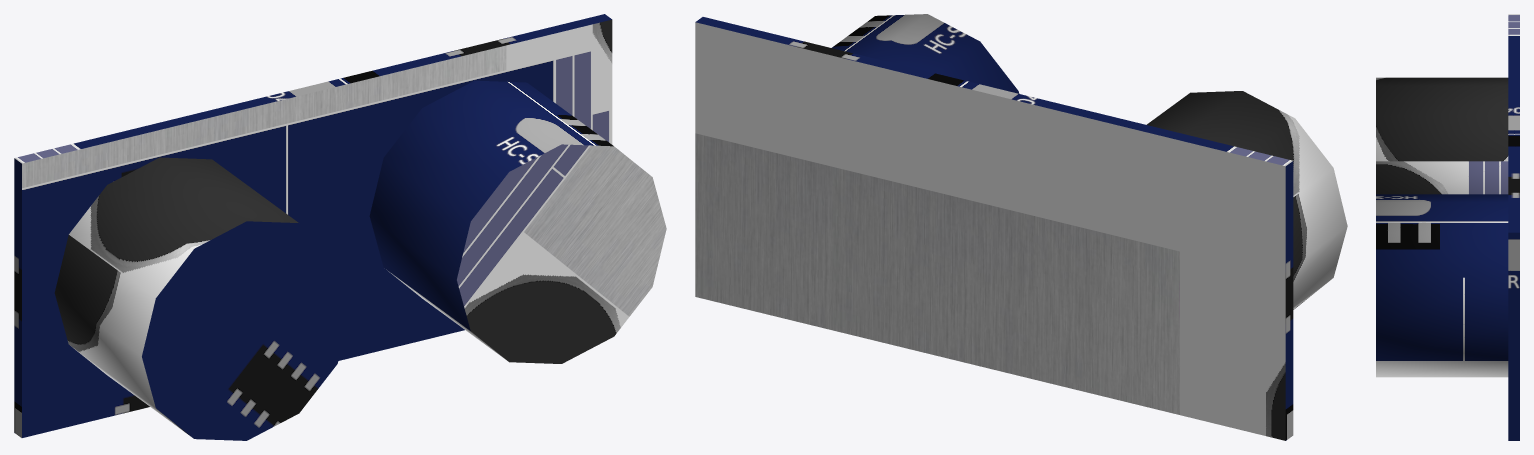
Rendered from UltrassonicSensor.gltf.
3 renders of one model, left to right at view 1: azimuth 30°, elevation 25°; view 2: azimuth 150°, elevation 25°; view 3: azimuth 270°, elevation 25°, orthographic. The views are drawn at different scales.
Parts seen in each view (by area): view 1: UltrassonicSensor; view 2: UltrassonicSensor; view 3: UltrassonicSensor.
Part boxes in pixels (left/top/right/bottom): UltrassonicSensor: left=14, top=14, right=666, bottom=440; UltrassonicSensor: left=695, top=14, right=1347, bottom=440; UltrassonicSensor: left=1376, top=14, right=1519, bottom=440.
Size of the model in its own units: 45 by 20 by 12.5.
Materials: 1 (1 with a texture image).
